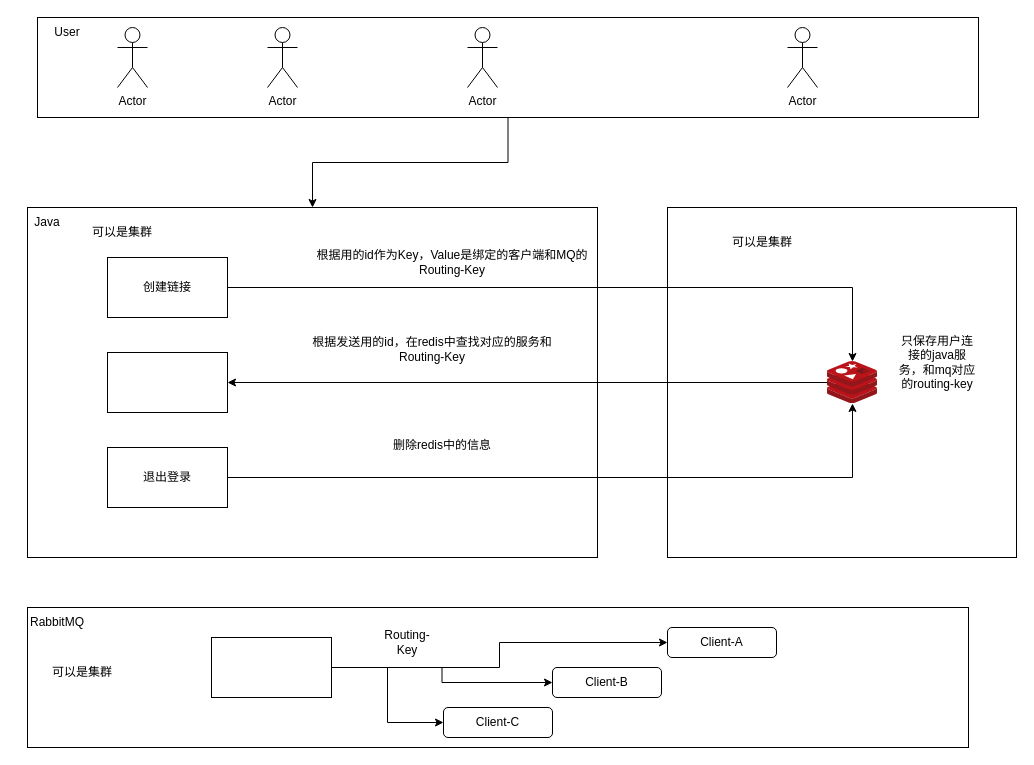
The diagram is 1034 pixels wide and 765 high, and some of its shapes have lost their labels. Here are the shapes that lost their labels. From the top down, the box of each, then its label:
(106, 352, 228, 412): 发送消息
(210, 636, 332, 698): Exchange
